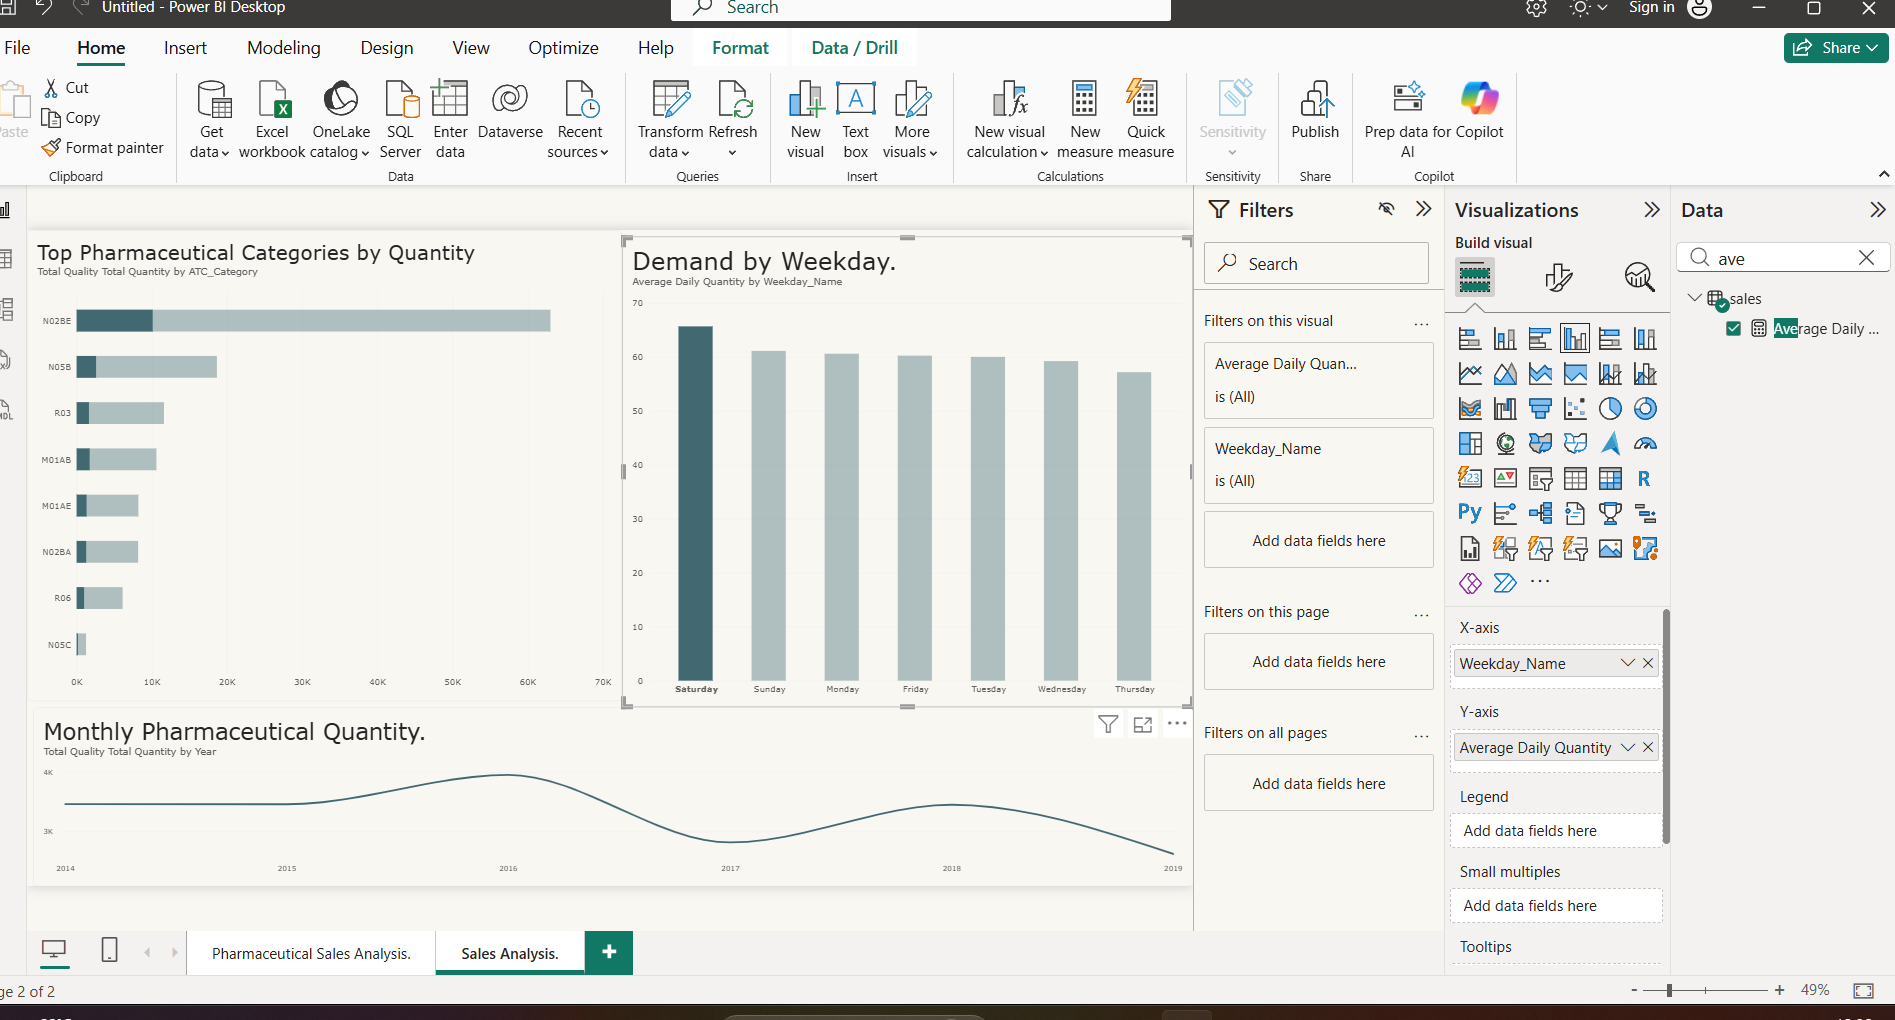

Layout of this report page (visuals, bound fields, positions):
{"tool":"powerbi","page":{"name":" Sales Analysis.","canvas":[1920,1080],"ordinal":1},"visuals":[{"type":"clusteredBarChart","title":"Top Pharmaceutical Categories by Quantity","fields":{"Category":["sales.ATC_Category"],"Y":["sales.Total Quality Total Quantity"]},"box":[0,0,979.8,776],"z":0},{"type":"lineChart","title":"Monthly Pharmaceutical Quantity.","fields":{"Category":["sales.Month_Start.Variation.Date Hierarchy.Year","sales.Month_Start.Variation.Date Hierarchy.Quarter","sales.Month_Start.Variation.Date Hierarchy.Month","sales.Month_Start.Variation.Date Hierarchy.Day"],"Y":["sales.Total Quality Total Quantity"]},"box":[10.3,786.3,1910.1,294.3],"z":1},{"type":"clusteredColumnChart","title":"Demand by Weekday.","fields":{"Category":["sales.Weekday_Name"],"Y":["sales.Average Daily Quantity"]},"box":[979.8,10.3,940.7,776],"z":2}]}

Visuals, with their boxes on the page's 1920x1080 design canvas (x1, y1, x2, y2). These are canvas units, not pixel positions in the 1895x1020 screenshot, which may show the page scaled, cropped or inside an application window:
"Top Pharmaceutical Categories by Quantity" clusteredBarChart: [x1=0, y1=0, x2=980, y2=776]
"Monthly Pharmaceutical Quantity." lineChart: [x1=10, y1=786, x2=1920, y2=1081]
"Demand by Weekday." clusteredColumnChart: [x1=980, y1=10, x2=1920, y2=786]
